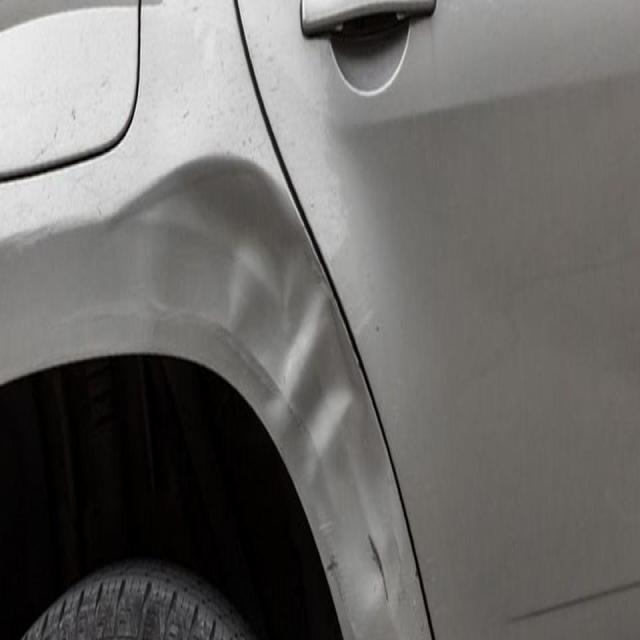dent: (117, 195, 394, 496)
